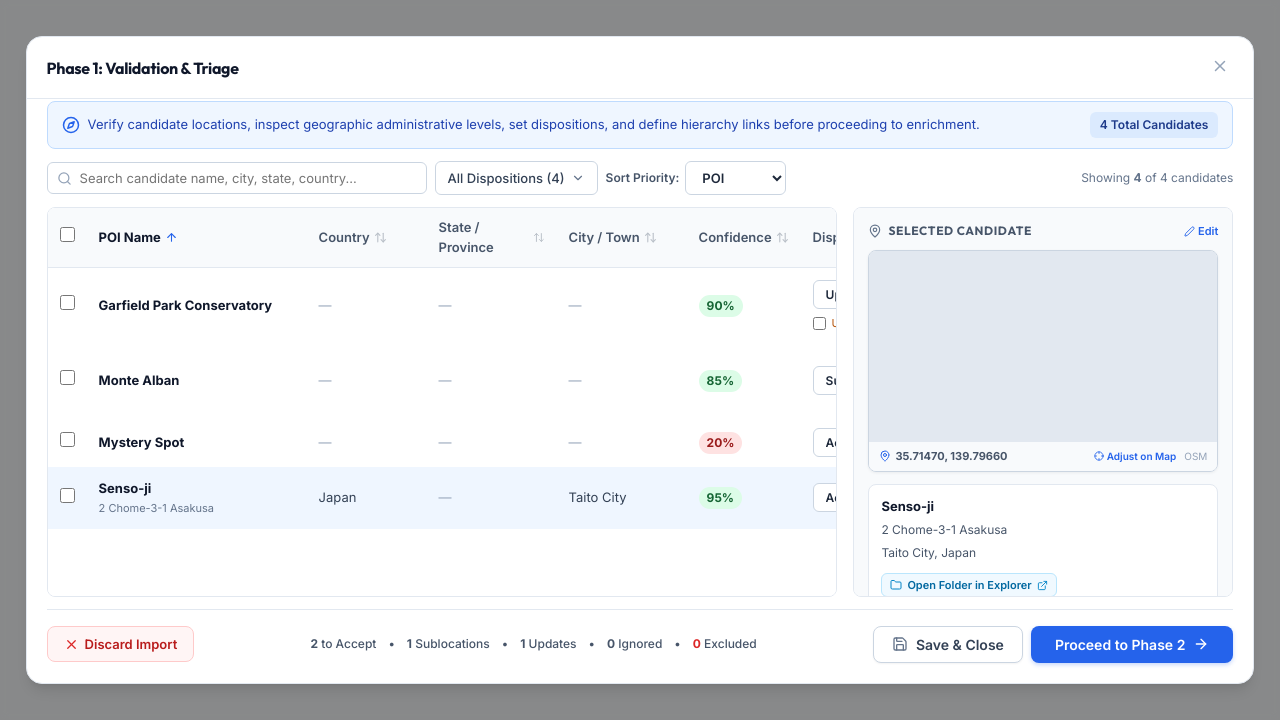
Test: CSVTriageModal (Phase 1) › displays notice in Nearby POIs section when candidate has missing coordinates
(page scrolled)
Step 1. Click the row with test id "candidate-row-cand-4" → click(664, 442), box x1=48 y1=418 x2=1279 y2=467
(page scrolled)
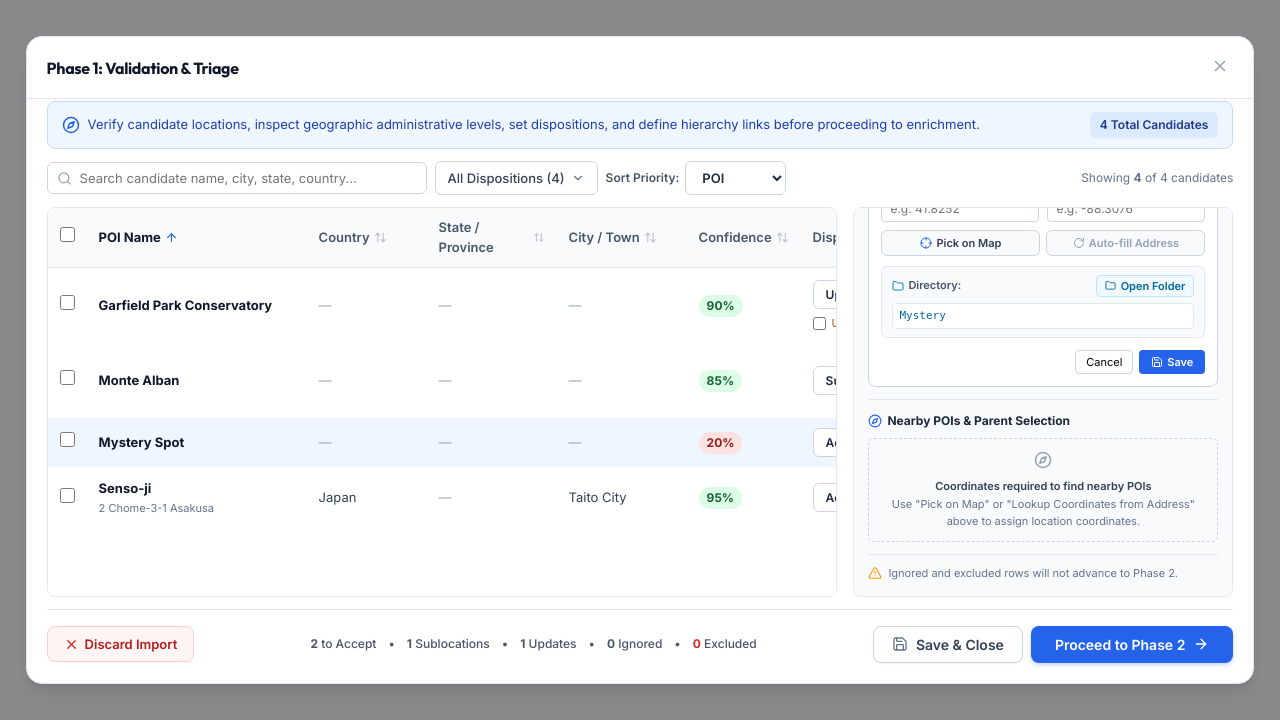
Result: the element with test id "no-coords-nearby-notice" is shown at x1=868 y1=438 x2=1218 y2=542
Result: the text "Coordinates required to find nearby POIs" is shown at x1=935 y1=478 x2=1152 y2=492
